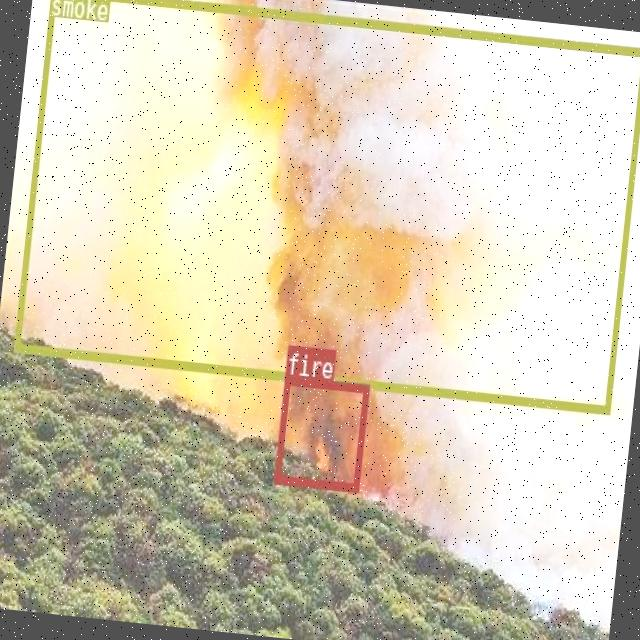fire: (272, 373, 368, 491)
smoke: (11, 0, 640, 413)
